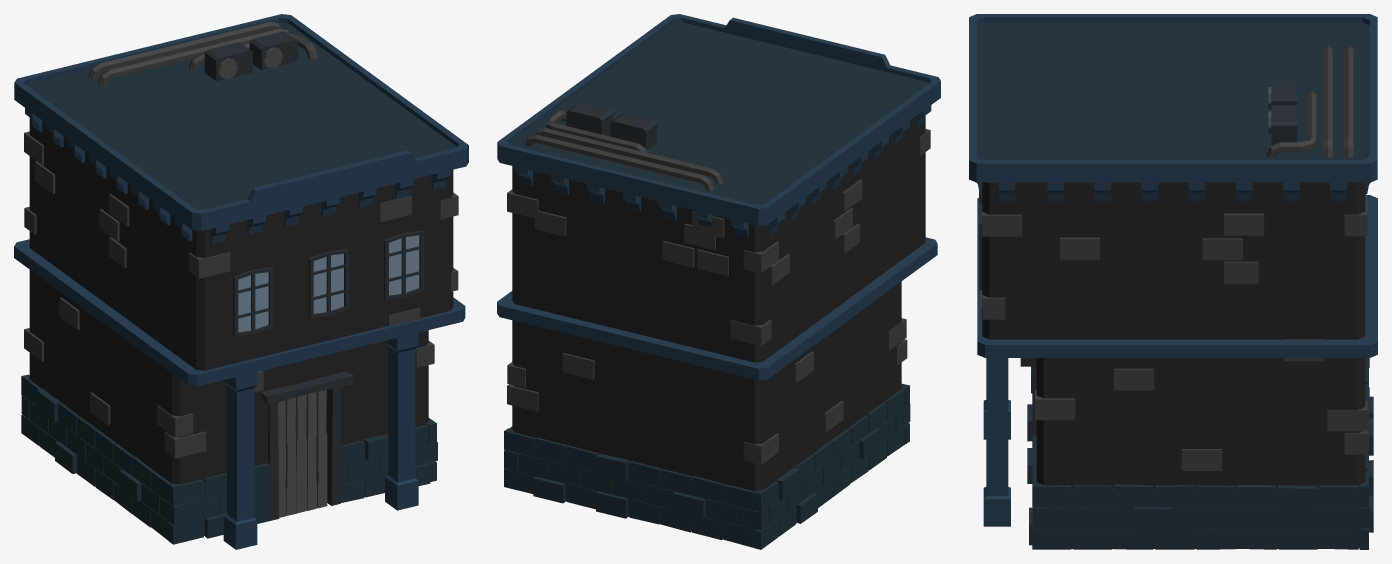
Rendered from quat_2story_columns.glb.
The picture shows the model from 3 angles, left to right: view 1: azimuth 30°, elevation 25°; view 2: azimuth 150°, elevation 25°; view 3: azimuth 270°, elevation 25°; orthographic projection. The views are drawn at different scales.
Parts seen in each view (by area): view 1: 2Story_Columns_Cube.119; view 2: 2Story_Columns_Cube.119; view 3: 2Story_Columns_Cube.119.
Boxes of the visible parts, <box> form: 2Story_Columns_Cube.119: <box>14,14,468,549</box>; 2Story_Columns_Cube.119: <box>497,14,940,549</box>; 2Story_Columns_Cube.119: <box>969,14,1377,549</box>.
Size of the model in its own units: 2.16 by 2.77 by 2.49.
1 material, 1 textured.
